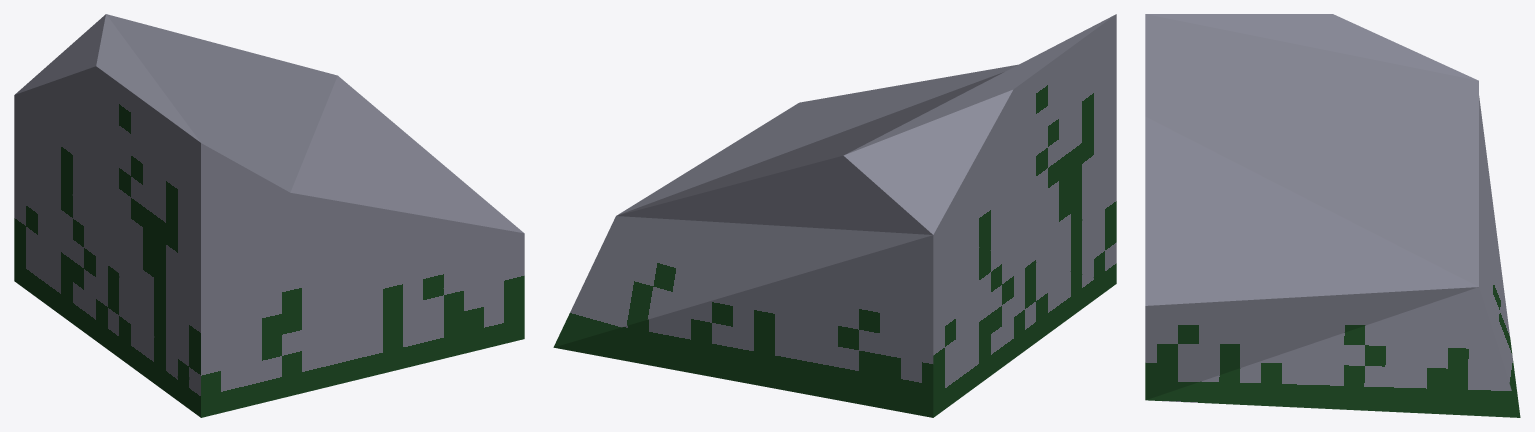
File: Kamen.obj
3 views of the same model, side by side, from view 1: azimuth 30°, elevation 25°; view 2: azimuth 150°, elevation 25°; view 3: azimuth 270°, elevation 25° (orthographic). The views are drawn at different scales.
Parts seen in each view (by area): view 1: cuboid; view 2: cuboid; view 3: cuboid.
Boxes of the visible parts, bbox=[...] form: cuboid: bbox=[14, 14, 524, 417]; cuboid: bbox=[553, 14, 1116, 417]; cuboid: bbox=[1145, 14, 1520, 417].
Bounding box in the file's own units: 1.12 × 0.8125 × 1.12.
1 material, 1 textured.
